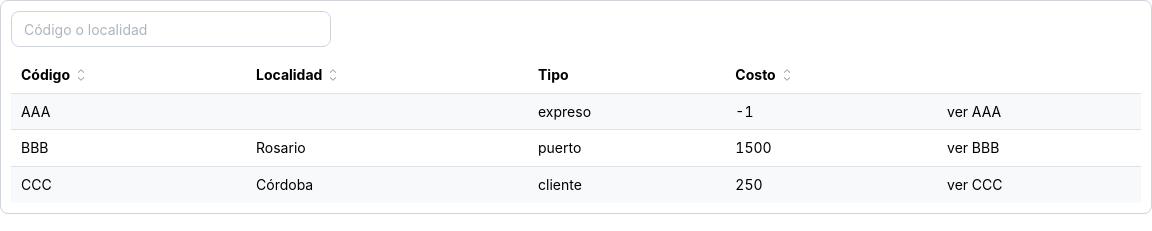
Test: DataTable con buscador › el botón de limpiar restituye las filas
This screenshot has width=1152, height=231.
Step 1. Type "rosario" into the field named "Buscar en la tabla" → {"x": 171, "y": 29}, box [11,11,331,47]
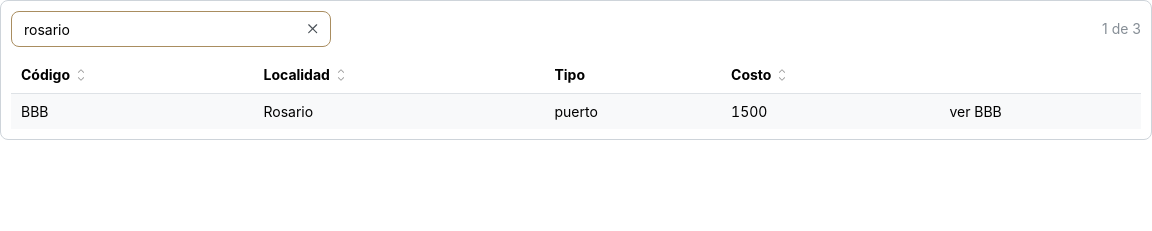
Now the text "AAA" is gone
Step 2. Click the button named "Limpiar la búsqueda" → {"x": 313, "y": 29}, box [302,18,324,40]
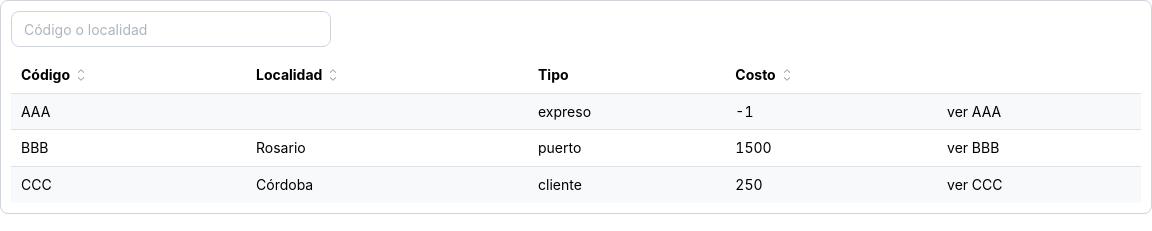
Now the text "AAA" is shown, box [11,93,246,130]
Now the field named "Buscar en la tabla" is empty, box [11,11,331,47]
